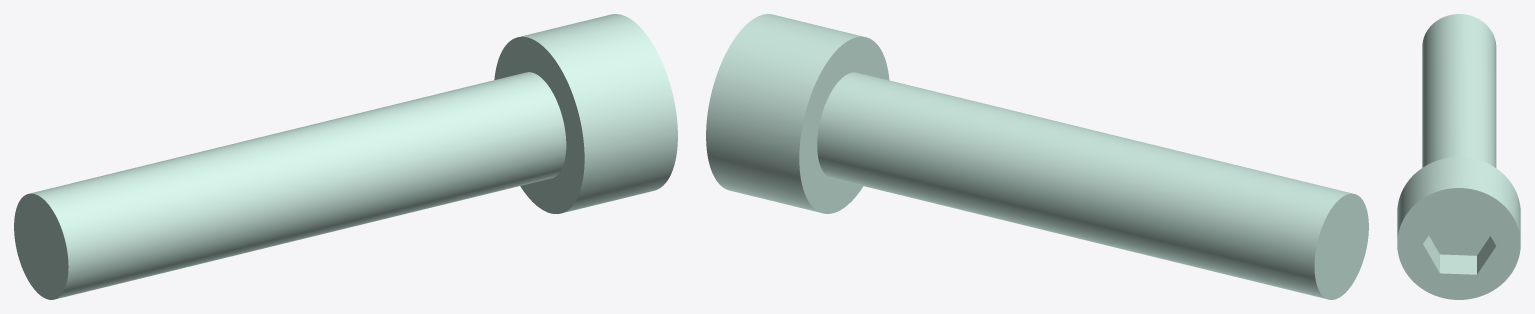
3 views of the same model, side by side, from view 1: azimuth 30°, elevation 25°; view 2: azimuth 150°, elevation 25°; view 3: azimuth 270°, elevation 25° (orthographic). The views are drawn at different scales.
Visible parts, largest first — view 1: Renderer Node; view 2: Renderer Node; view 3: Renderer Node.
Part boxes in pixels (x1,y1,x2,y2): Renderer Node: (14,14,677,299); Renderer Node: (706,14,1368,299); Renderer Node: (1397,14,1520,299).
Bounding box in the file's own units: 0.8906 × 0.2368 × 0.2368.
